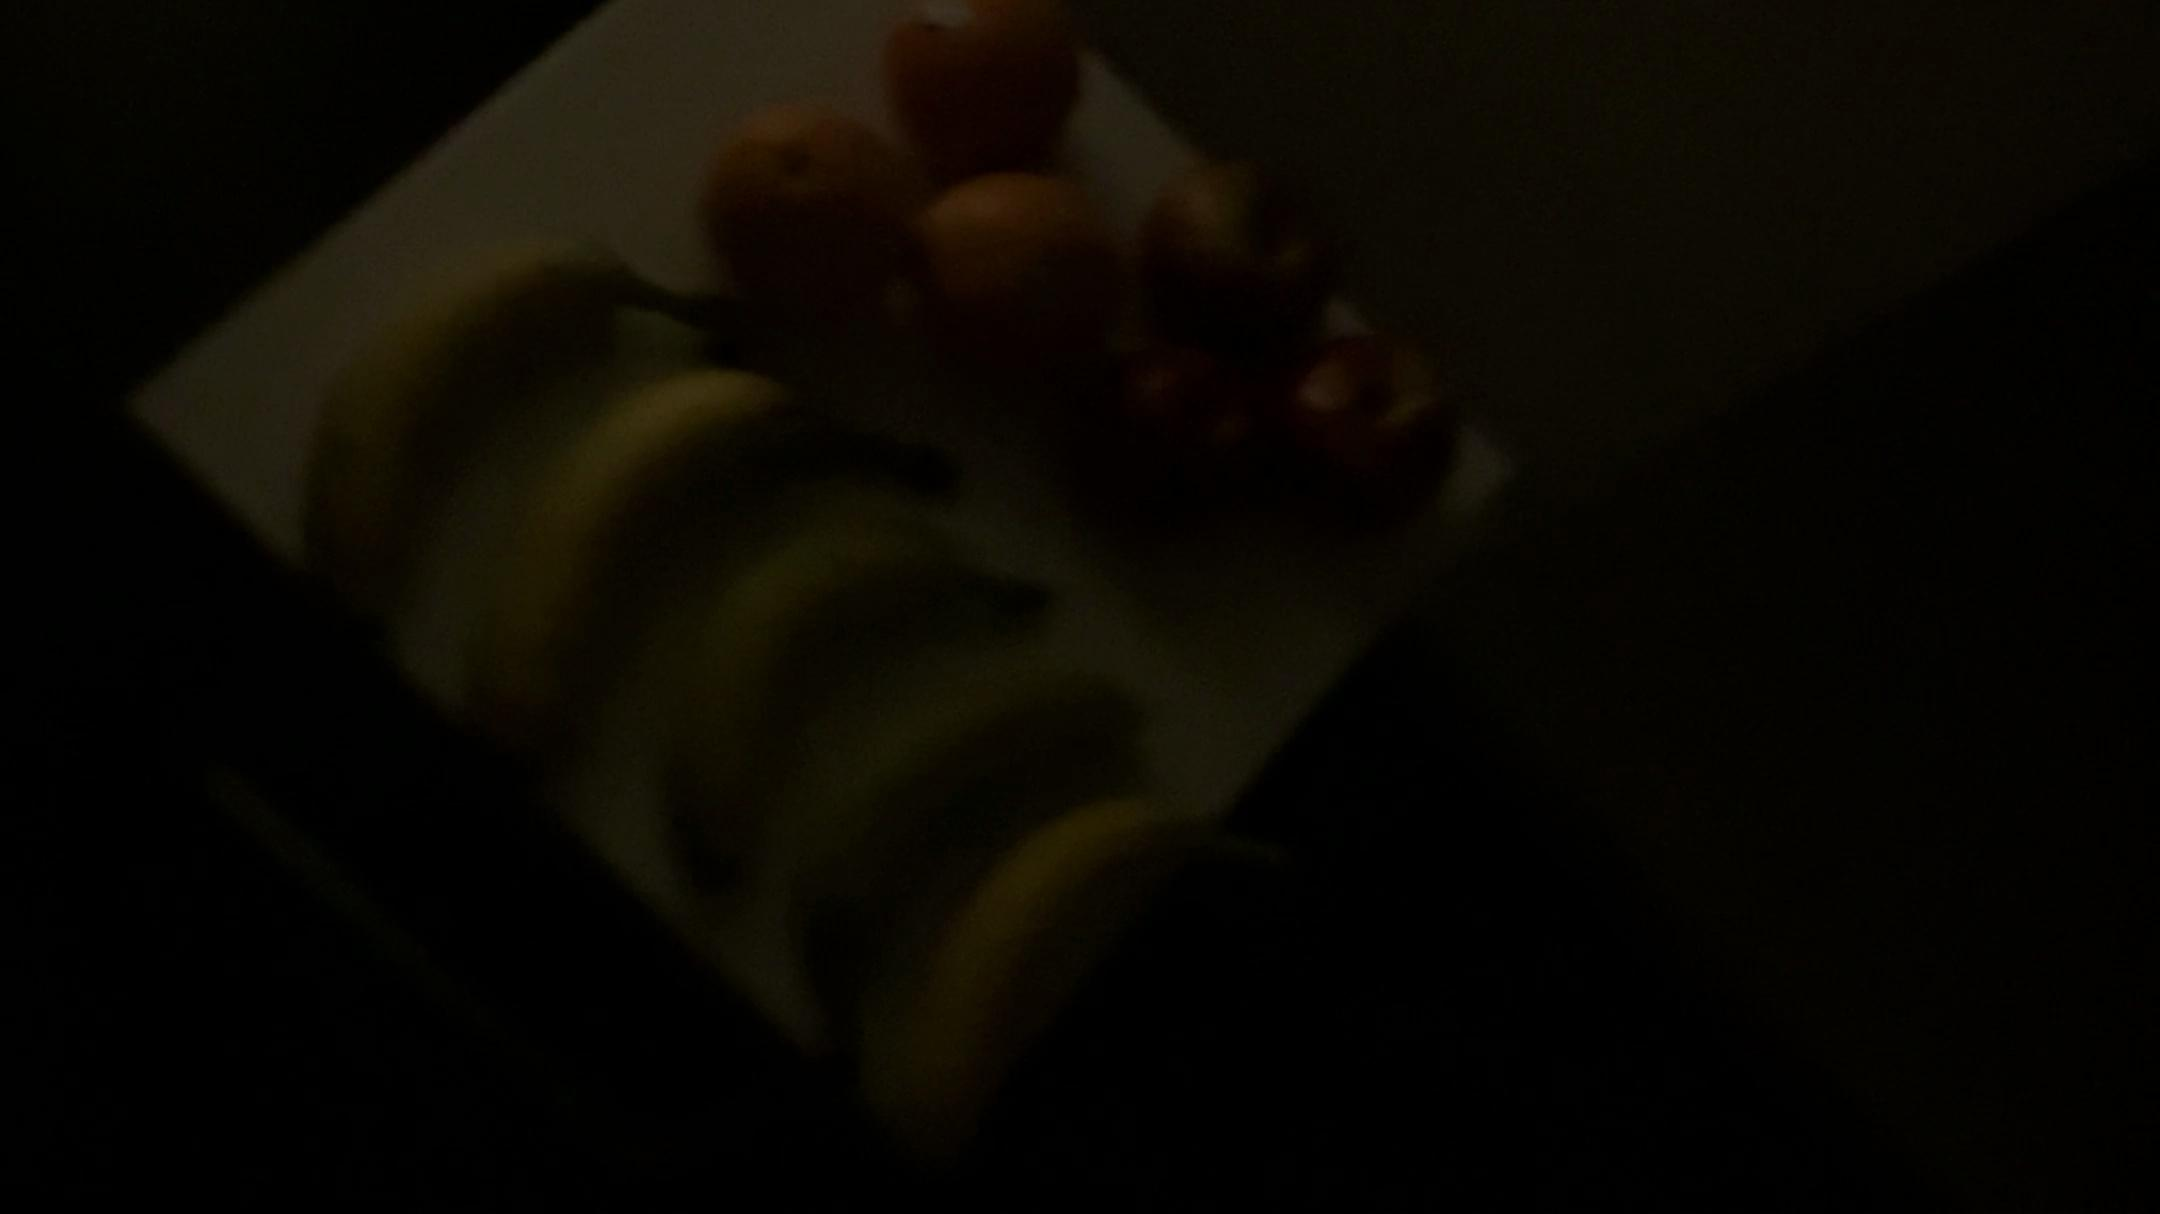apple: (1228, 295, 1475, 530), (1025, 289, 1239, 519), (1142, 142, 1346, 343)
banana: (273, 217, 752, 591), (648, 488, 1062, 887), (441, 373, 835, 739), (880, 775, 1262, 1146), (760, 643, 1145, 988)
orange: (703, 95, 920, 337), (881, 157, 1104, 387), (846, 1, 1114, 171)
